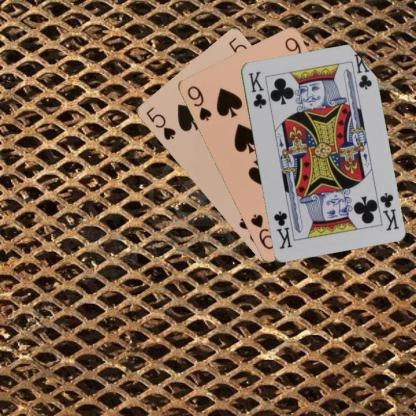5s: (143, 104, 177, 142)
9s: (184, 83, 213, 122)
Kc: (377, 190, 400, 232), (245, 69, 268, 110)
